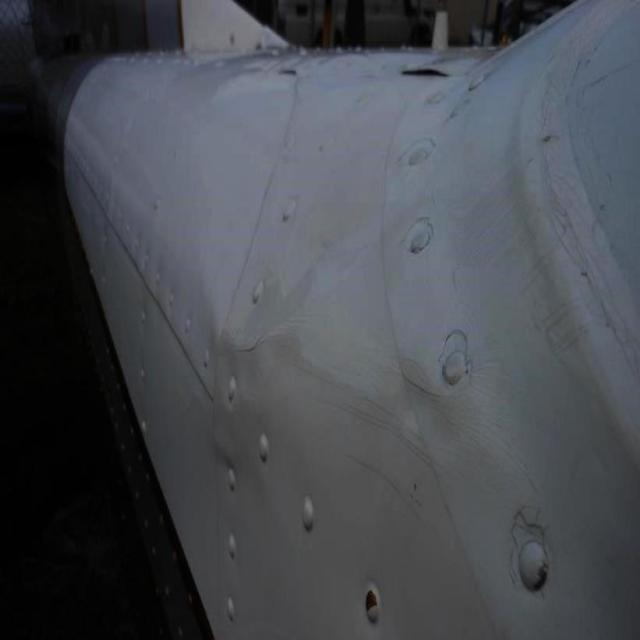Dent: (222, 256, 326, 355), (366, 355, 471, 453)
